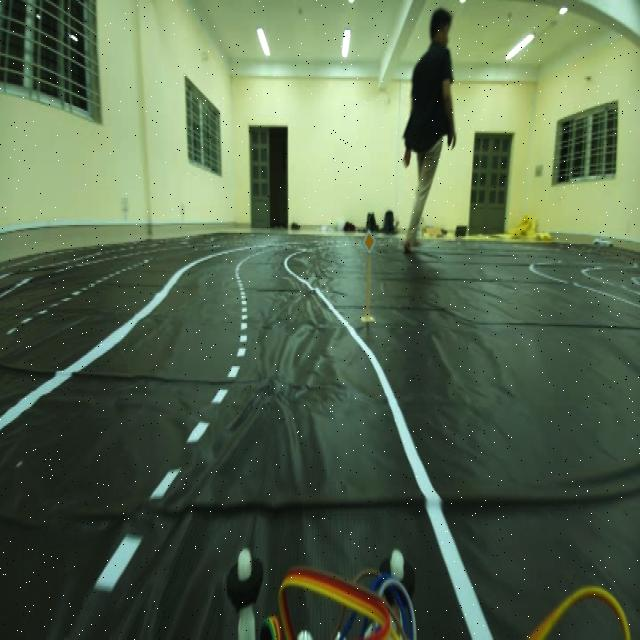priority: (358, 219, 379, 259)
